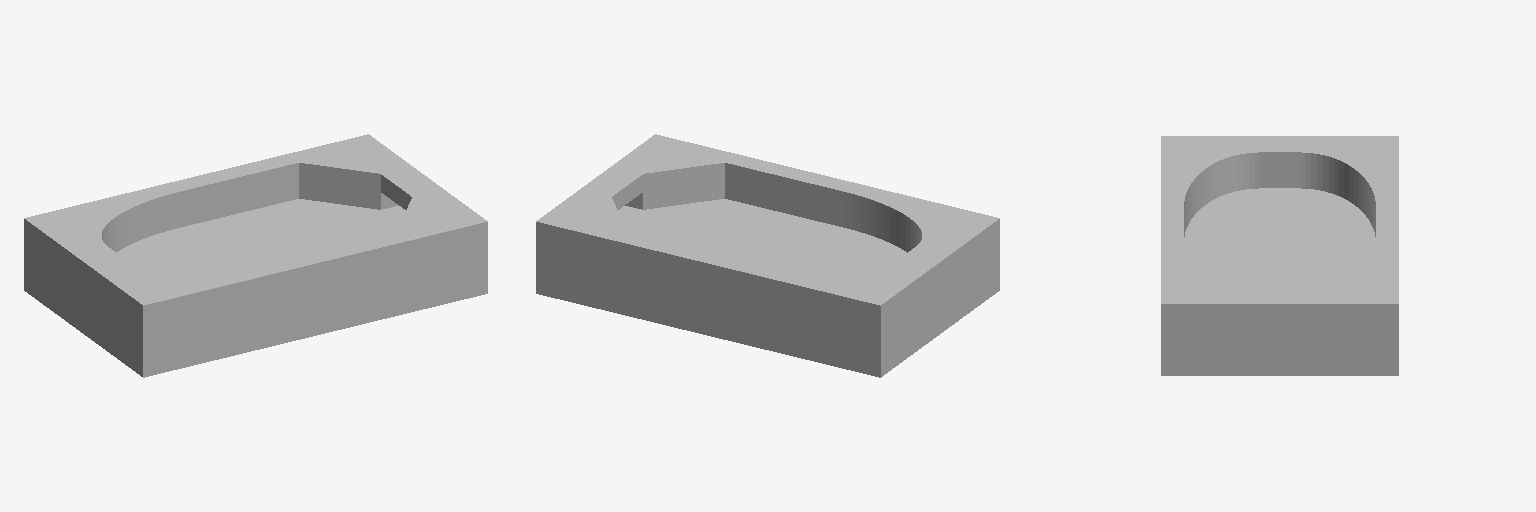
File: Pinball.obj
The picture shows the model from 3 angles: view 1: azimuth 30°, elevation 25°; view 2: azimuth 150°, elevation 25°; view 3: azimuth 270°, elevation 25°; orthographic projection.
Parts seen in each view (by area): view 1: Cube; view 2: Cube; view 3: Cube.
Part boxes in pixels (x1,y1,x2,y2): Cube: (24, 134, 487, 377); Cube: (536, 134, 999, 377); Cube: (1161, 136, 1398, 375).
Bounding box in the file's own units: 10 × 2 × 6.